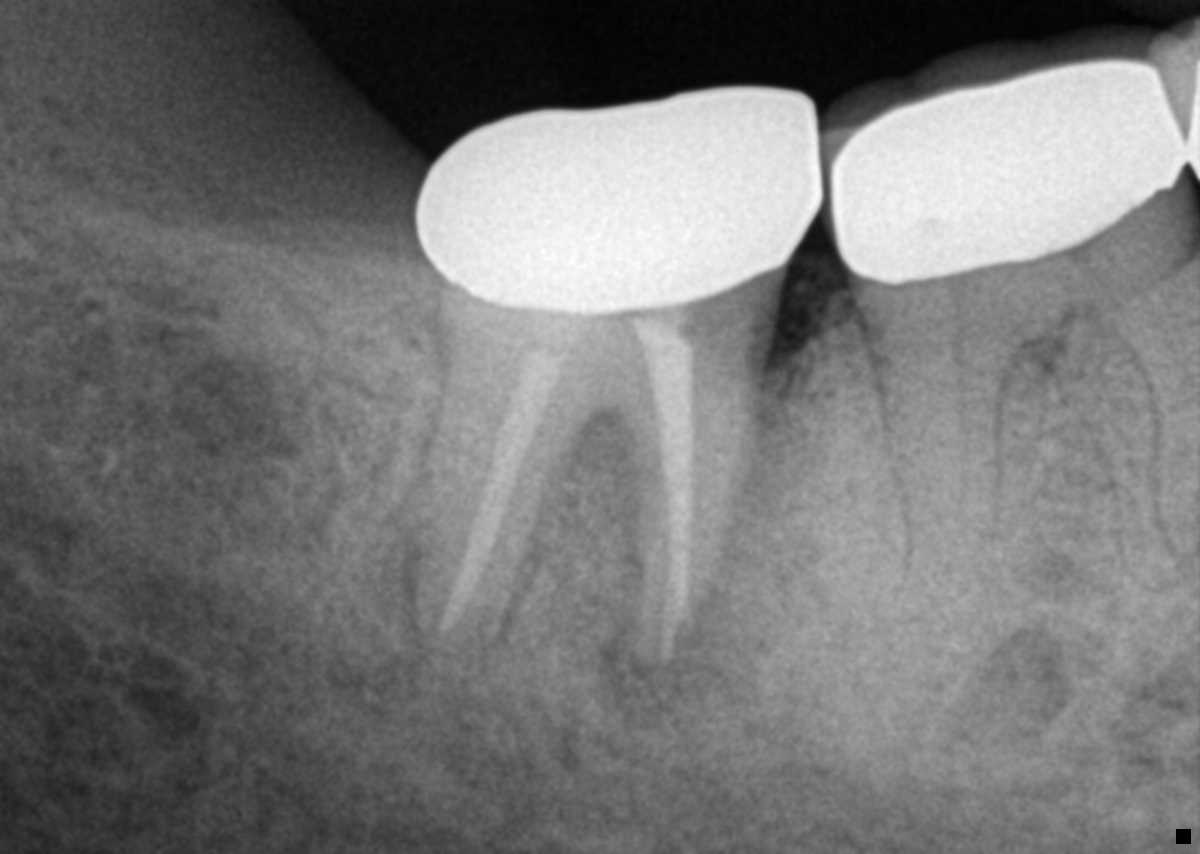Apical Lesion: (399, 579, 516, 684)
Distal Canal: (951, 339, 970, 530)
Distal Root: (416, 361, 591, 655), (859, 321, 1024, 629)
Mesial Canal: (1110, 238, 1200, 560)
Mesial Root: (1045, 262, 1200, 603), (620, 370, 760, 664)
Root Canal Filling: (435, 350, 561, 635), (638, 310, 693, 658)
